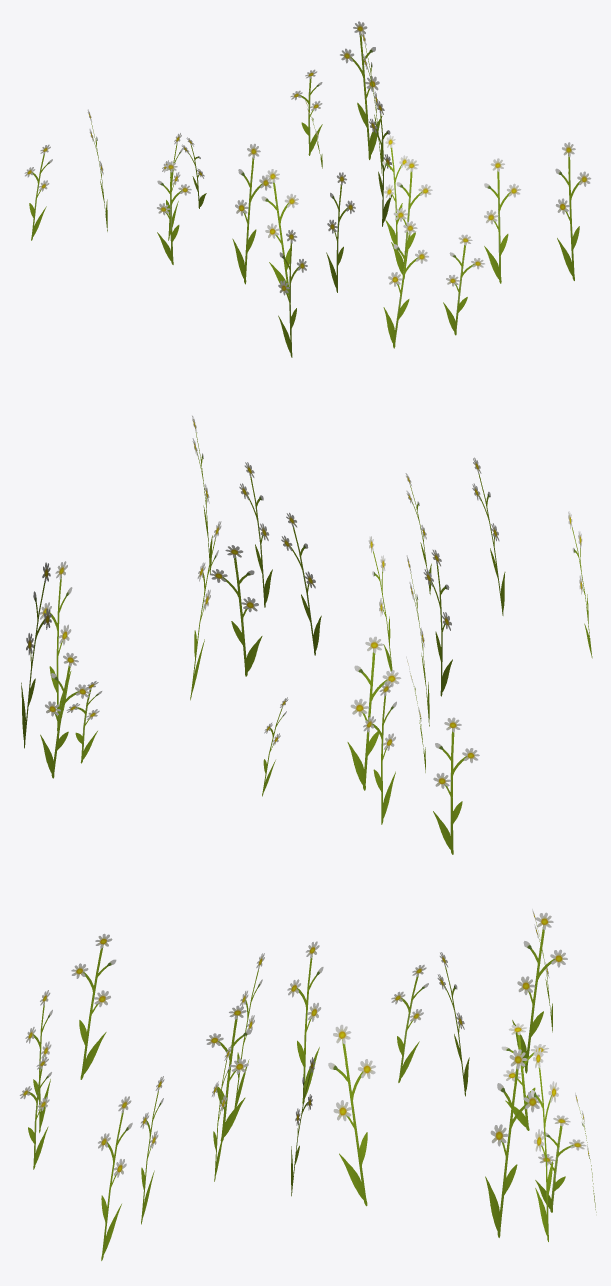
Rendered from FSS_Flower_003.FBX.
3 renders of one model, top to bottom at view 1: azimuth 30°, elevation 25°; view 2: azimuth 150°, elevation 25°; view 3: azimuth 270°, elevation 25°, orthographic. The views are drawn at different scales.
Visible parts, largest first — view 1: FSS_Flower_003; view 2: FSS_Flower_003; view 3: FSS_Flower_003.
Boxes of the visible parts, bbox=[...] form: FSS_Flower_003: bbox=[24, 21, 591, 357]; FSS_Flower_003: bbox=[21, 415, 592, 854]; FSS_Flower_003: bbox=[19, 909, 596, 1260].
Bounding box in the file's own units: 145 × 54.55 × 142.
